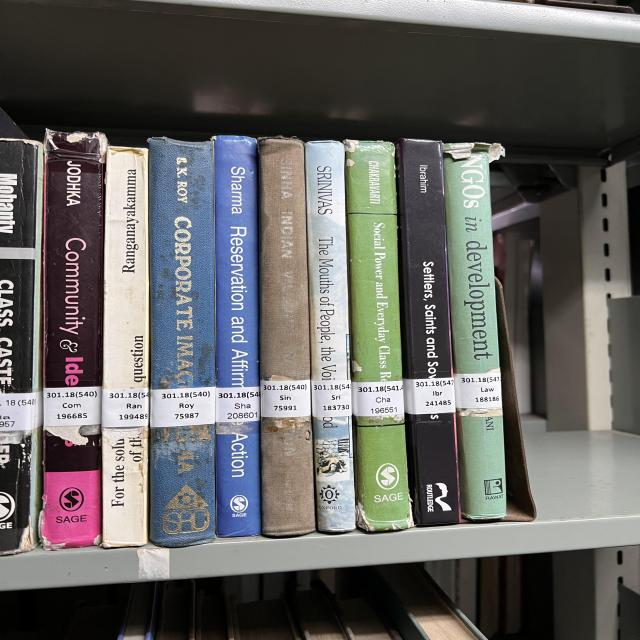Book: (148, 138, 217, 548), (40, 130, 107, 550), (345, 140, 413, 531), (397, 139, 460, 526), (443, 142, 507, 520), (258, 138, 315, 536), (213, 136, 262, 536), (305, 141, 355, 532), (102, 146, 148, 548), (0, 139, 43, 555)
Label: (150, 386, 215, 428), (43, 386, 102, 426), (260, 380, 312, 418), (453, 369, 502, 409), (403, 378, 455, 415), (102, 388, 148, 428), (352, 380, 403, 416), (0, 391, 42, 431), (215, 386, 260, 422), (312, 380, 352, 418)
